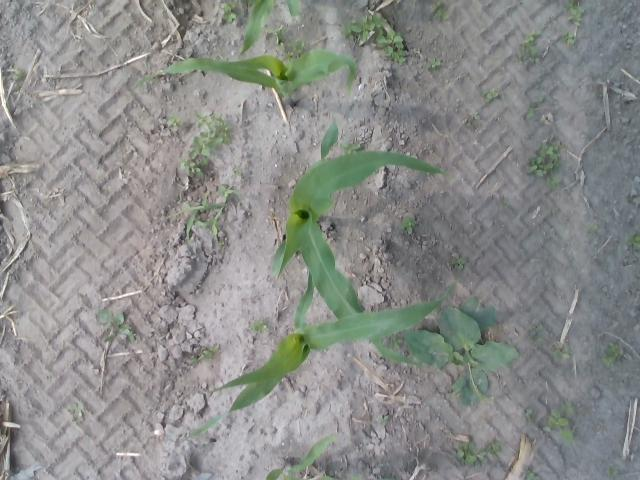Maize: (184, 270, 460, 436), (272, 117, 448, 365), (134, 51, 358, 110), (238, 1, 302, 57), (266, 436, 332, 480)
Weeds: (440, 296, 520, 404), (170, 185, 238, 244), (194, 113, 231, 148), (528, 138, 561, 176), (343, 13, 385, 41), (376, 29, 404, 54), (189, 137, 209, 165), (98, 311, 126, 329), (193, 345, 218, 362), (604, 342, 622, 364), (459, 444, 474, 463), (568, 7, 583, 25), (222, 5, 236, 24), (270, 27, 284, 46), (402, 216, 418, 232), (550, 410, 567, 425), (476, 445, 498, 456), (453, 254, 468, 270), (288, 40, 305, 54), (391, 48, 406, 63), (522, 34, 540, 46), (483, 88, 498, 102), (528, 324, 542, 338), (558, 428, 572, 442), (168, 116, 180, 132), (251, 320, 268, 331), (121, 327, 135, 340), (527, 48, 542, 60), (556, 346, 571, 358), (12, 68, 24, 82), (177, 158, 191, 170), (562, 31, 574, 45), (631, 230, 640, 248), (426, 58, 440, 69), (430, 2, 445, 12), (437, 10, 449, 22), (548, 176, 560, 188), (589, 224, 601, 235), (523, 465, 534, 476), (190, 162, 200, 174), (562, 402, 574, 412), (70, 402, 84, 410), (233, 166, 243, 176), (518, 54, 528, 63), (526, 108, 535, 118), (470, 112, 480, 120), (524, 409, 532, 417), (568, 0, 576, 7), (552, 208, 558, 214), (218, 242, 225, 246)
